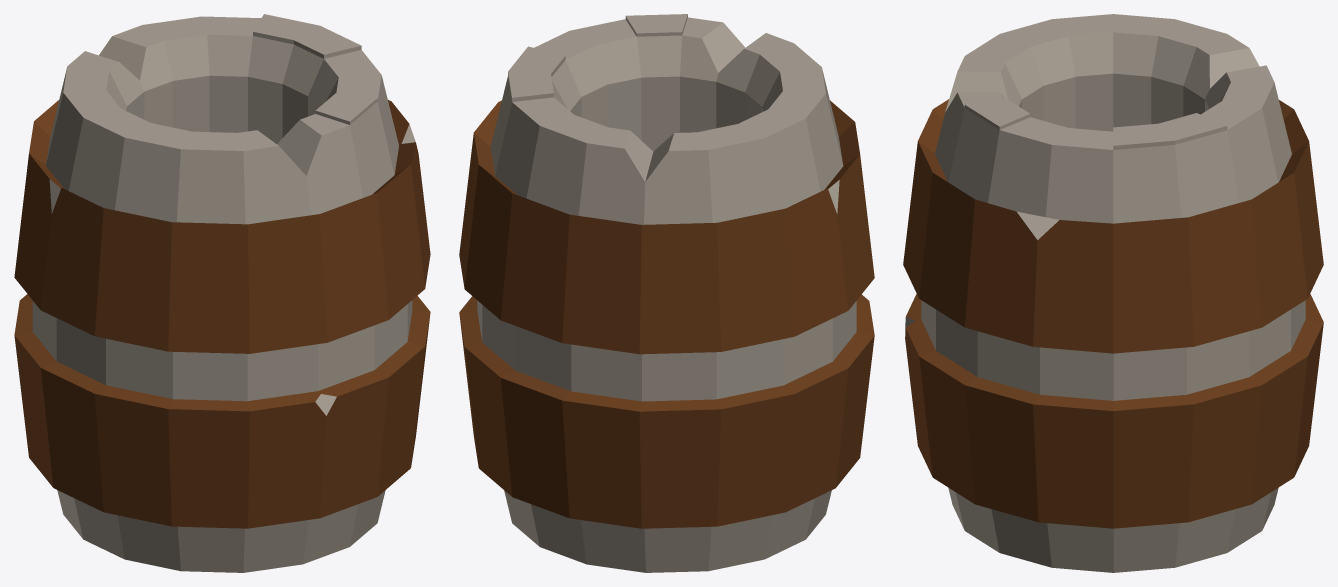
File: barrel .fbx
3 renders of one model, left to right at view 1: azimuth 30°, elevation 25°; view 2: azimuth 150°, elevation 25°; view 3: azimuth 270°, elevation 25°, orthographic.
Visible parts, largest first — view 1: Cylinder; view 2: Cylinder; view 3: Cylinder.
Boxes of the visible parts, box(x1,y1,x2,y2) form: Cylinder: box(14, 14, 430, 572); Cylinder: box(459, 14, 874, 572); Cylinder: box(903, 14, 1323, 572).
Bounding box in the file's own units: 2.61 × 2.93 × 2.61.
